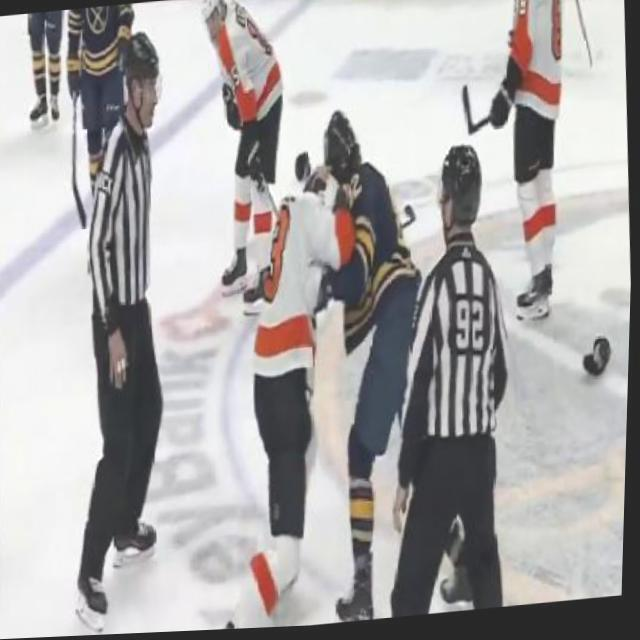fight: (227, 96, 458, 632)
